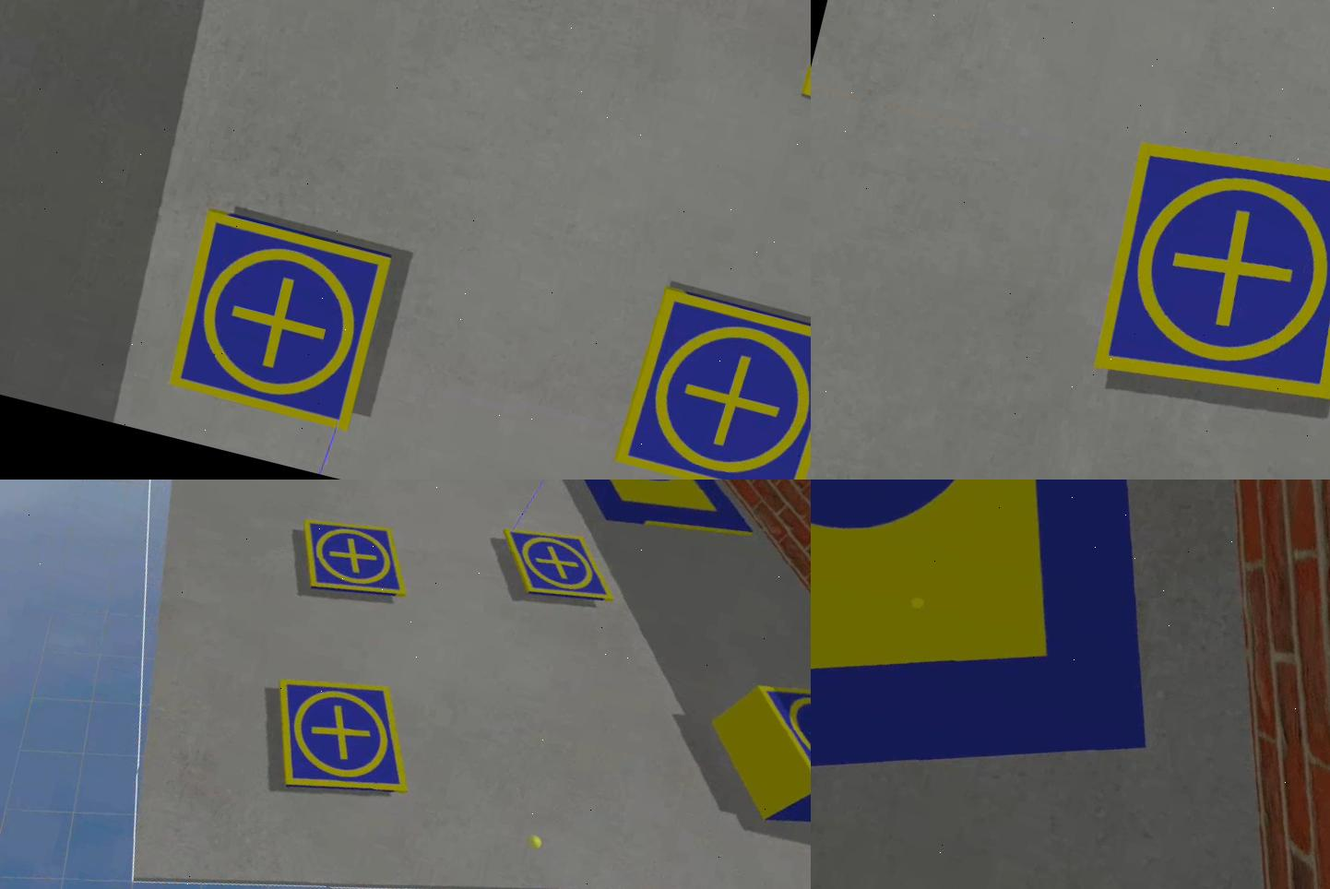large_base: (812, 480, 1262, 889), (514, 480, 775, 559)
small_base: (1080, 118, 1330, 431), (161, 209, 397, 439), (614, 284, 812, 480), (255, 661, 428, 815), (287, 509, 422, 614), (492, 519, 624, 618), (738, 670, 812, 802)
